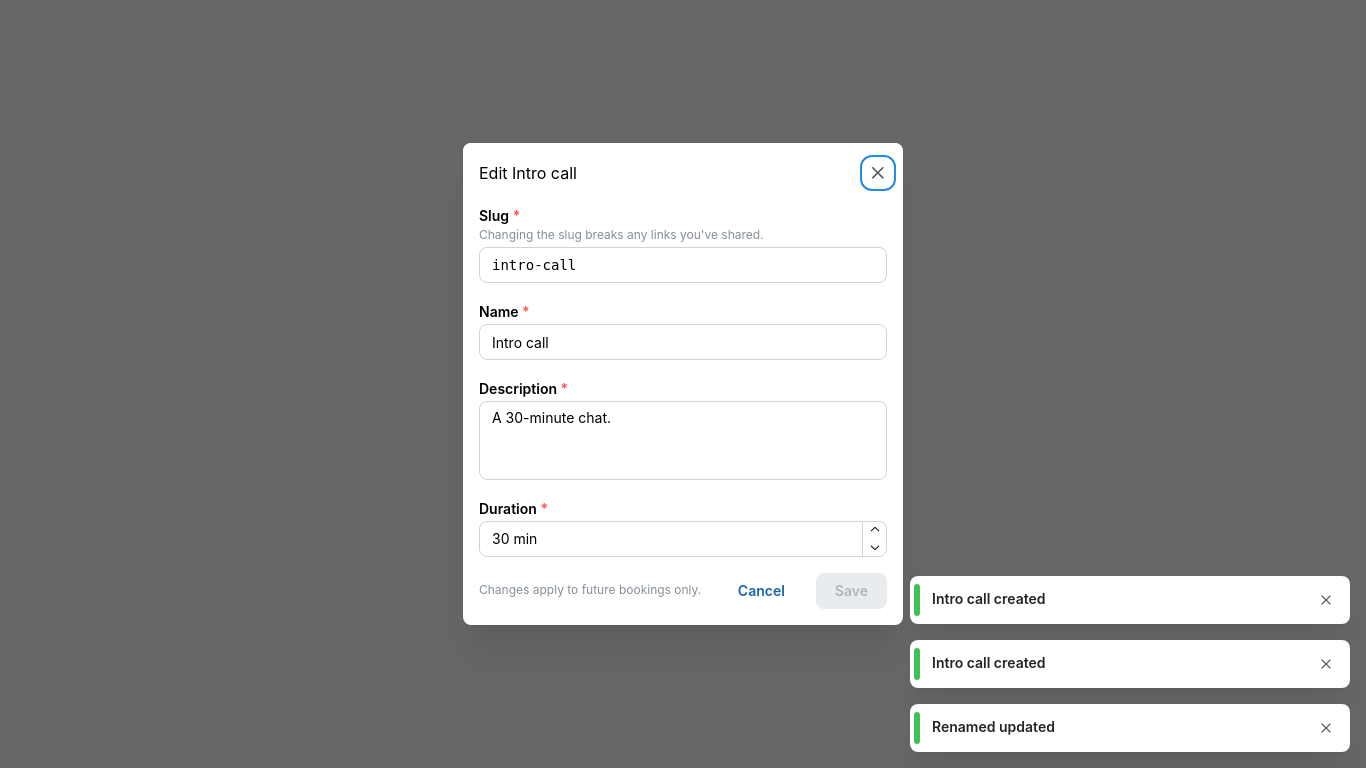
Scenario: EventTypeFormModal — edit › shows the slug-rename collision inline on 409
Replace the text in the field labelled "Slug *" with "deep-dive" at (683, 265), box [479,247,887,283]
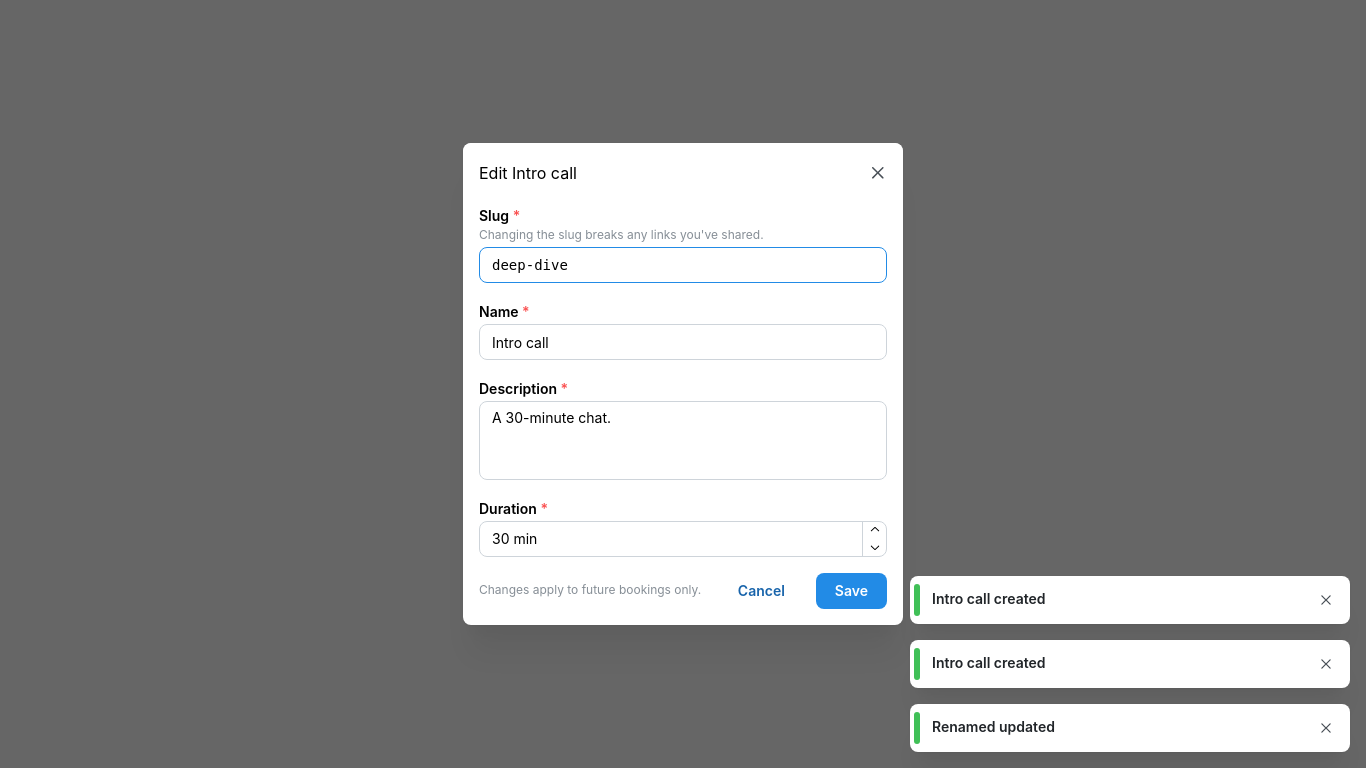
Click the button "Save".
click(851, 591)  # box [816,573,887,609]
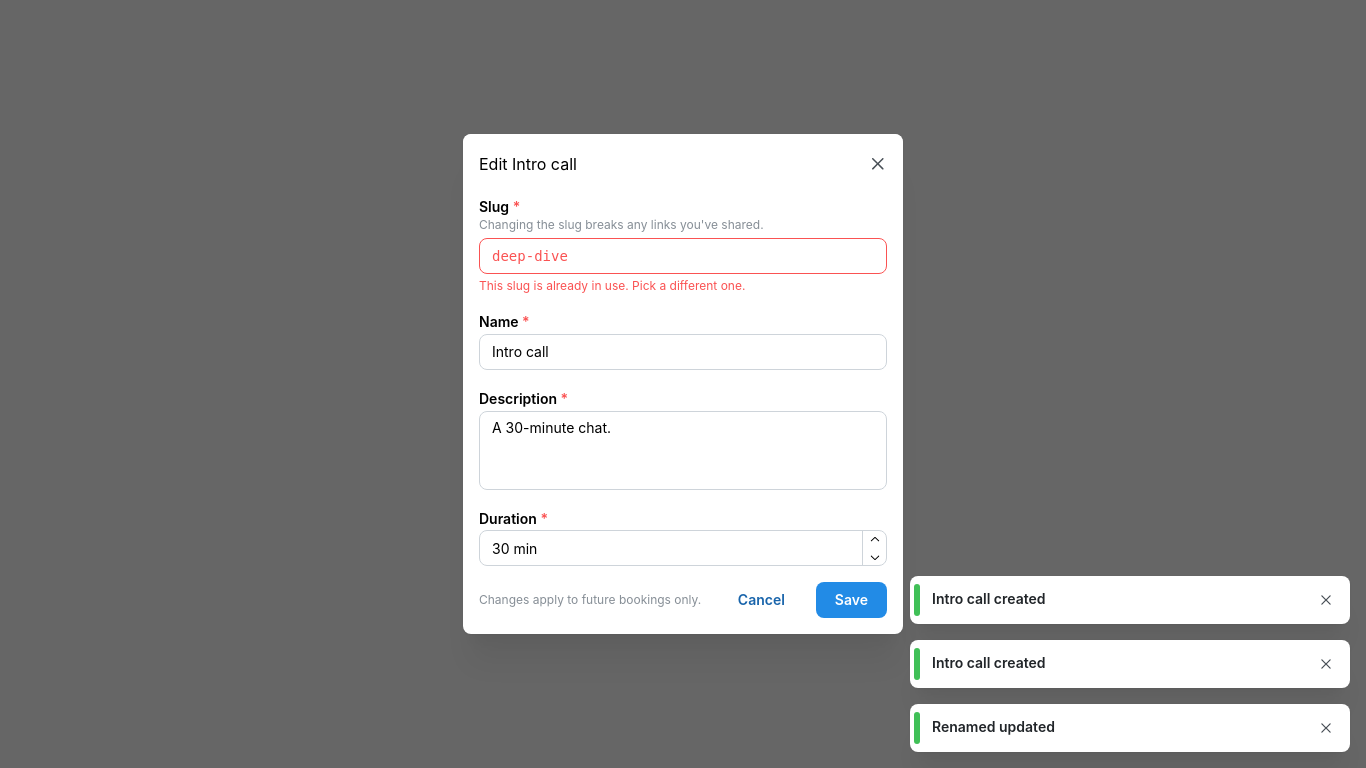
Now the text "This slug is already in use. Pick a different one." is shown, box [479,278,745,293]
